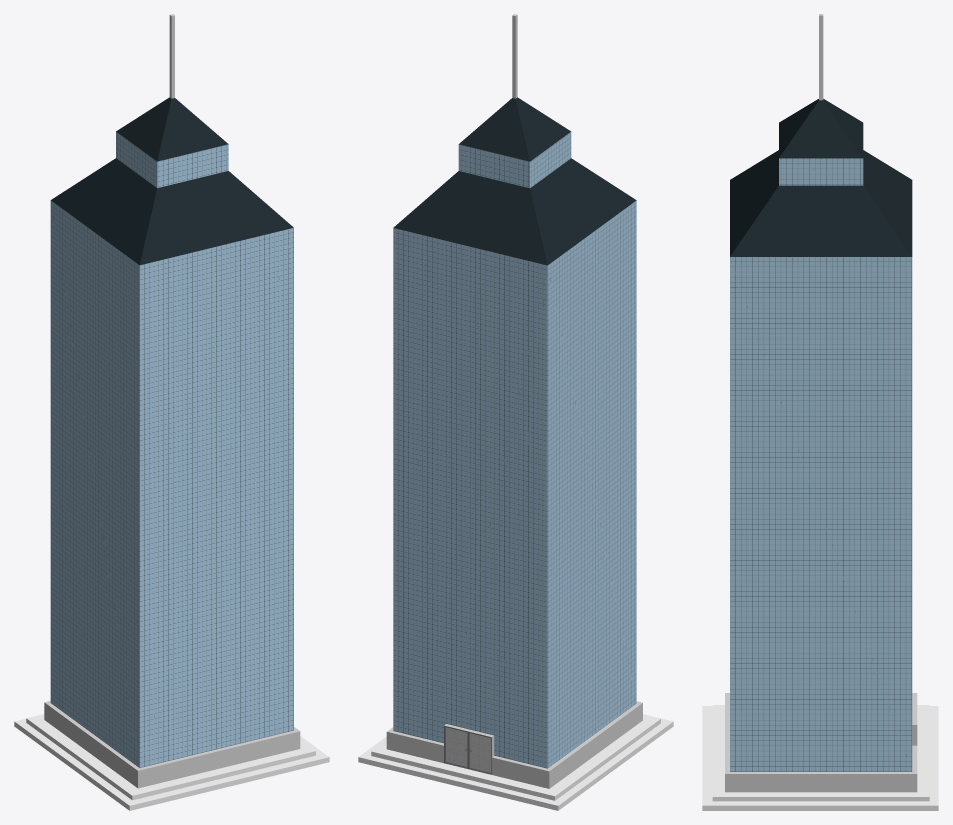
Rendered from buildings_8.dae.
3 views of the same model, side by side, from view 1: azimuth 30°, elevation 25°; view 2: azimuth 150°, elevation 25°; view 3: azimuth 270°, elevation 25° (orthographic). The views are drawn at different scales.
Visible parts, largest first — view 1: group_0 (×7); view 2: group_0 (×8); view 3: group_0 (×7).
Part boxes in pixels (left/top/right/bottom): group_0 (×7): left=14, top=97, right=329, bottom=810; group_0 (×8): left=358, top=97, right=673, bottom=810; group_0 (×7): left=702, top=99, right=938, bottom=810.
Bounding box in the file's own units: 146 × 146 × 508.
5 materials, 4 textured.
